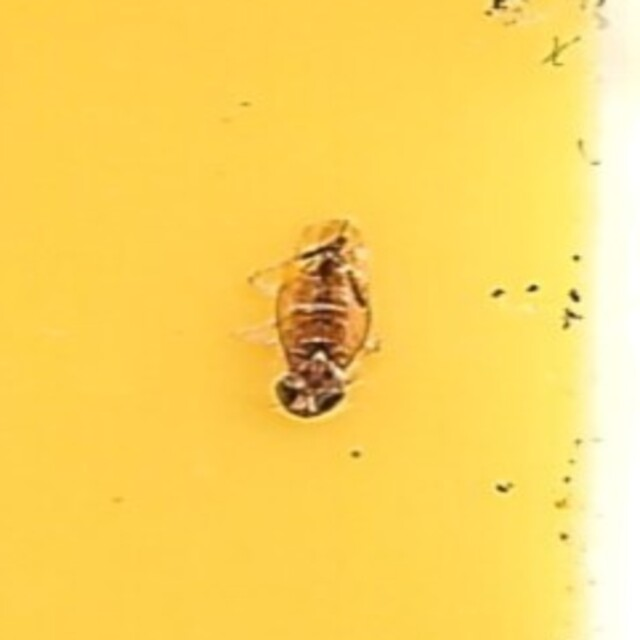Hemiptera: (266, 211, 374, 429)
